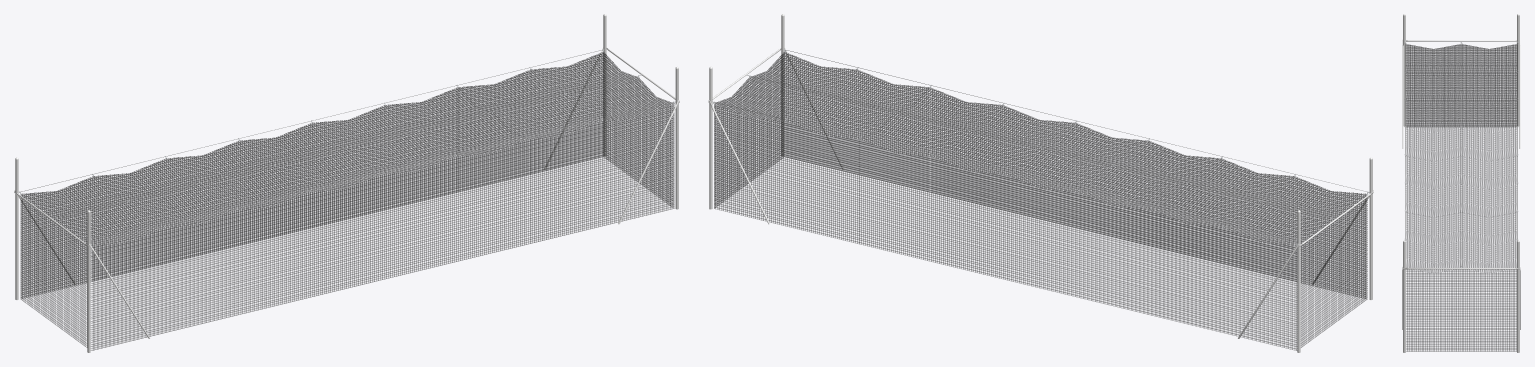
Rendered from Outdoor Collegiate 70.glb.
The picture shows the model from 3 angles, left to right: view 1: azimuth 30°, elevation 25°; view 2: azimuth 150°, elevation 25°; view 3: azimuth 270°, elevation 25°; orthographic projection. The views are drawn at different scales.
Parts seen in each view (by area): view 1: Playground.009, Frame.011; view 2: Playground.009, Frame.011; view 3: Playground.009, Frame.011.
Boxes of the visible parts, left/top/right/bottom form: Playground.009: left=20, top=52, right=674, bottom=350; Frame.011: left=14, top=14, right=679, bottom=352; Playground.009: left=714, top=52, right=1367, bottom=350; Frame.011: left=708, top=14, right=1373, bottom=352; Playground.009: left=1405, top=44, right=1517, bottom=351; Frame.011: left=1402, top=14, right=1520, bottom=352.
Bounding box in the file's own units: 21.39 × 4.89 × 4.7.
Materials: 4 (1 with a texture image).
